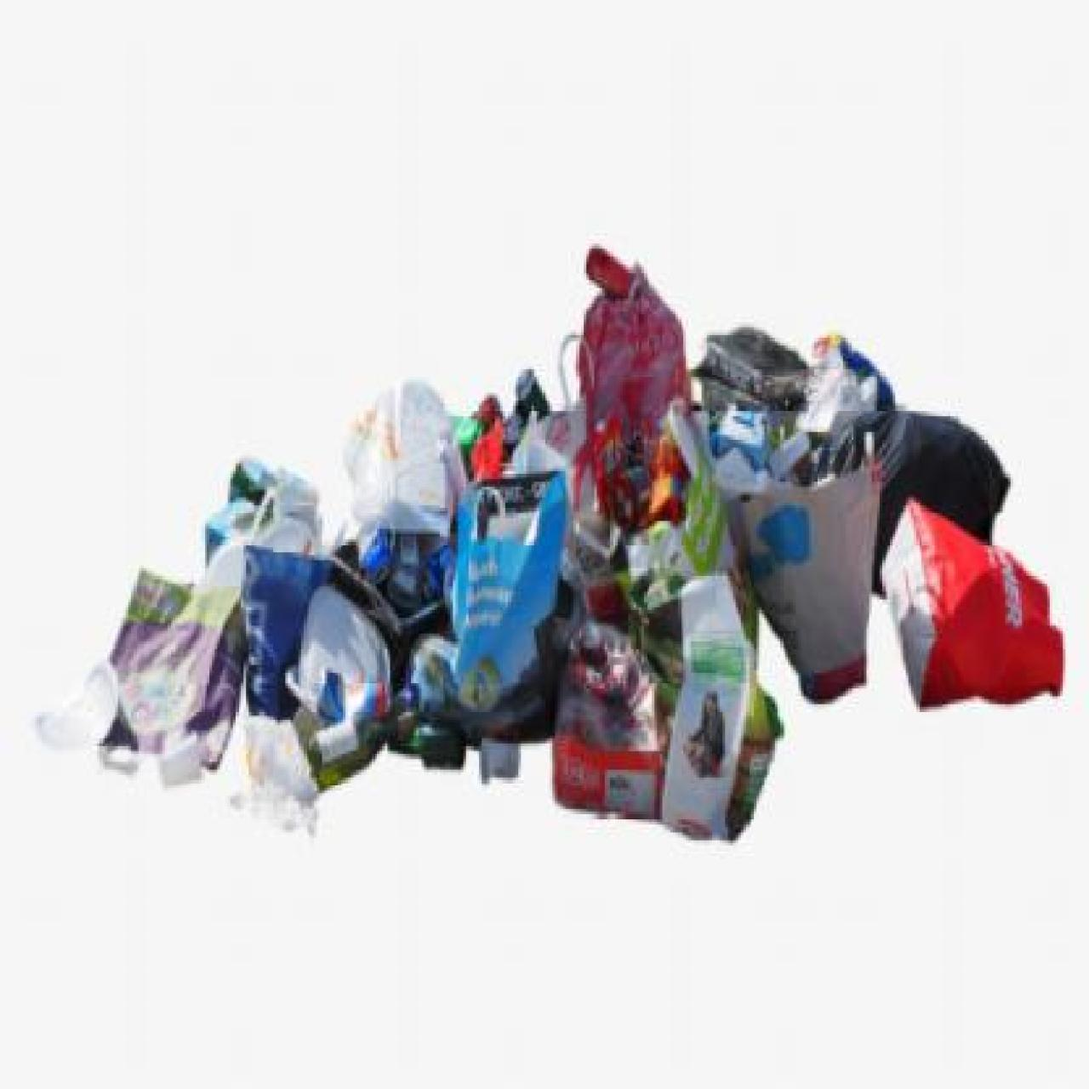normal_waste: (716, 431, 880, 701), (242, 545, 396, 795), (881, 499, 1063, 707), (818, 408, 1009, 596), (573, 247, 691, 528), (662, 574, 781, 839), (102, 570, 245, 769), (453, 473, 566, 712), (552, 622, 666, 818)
